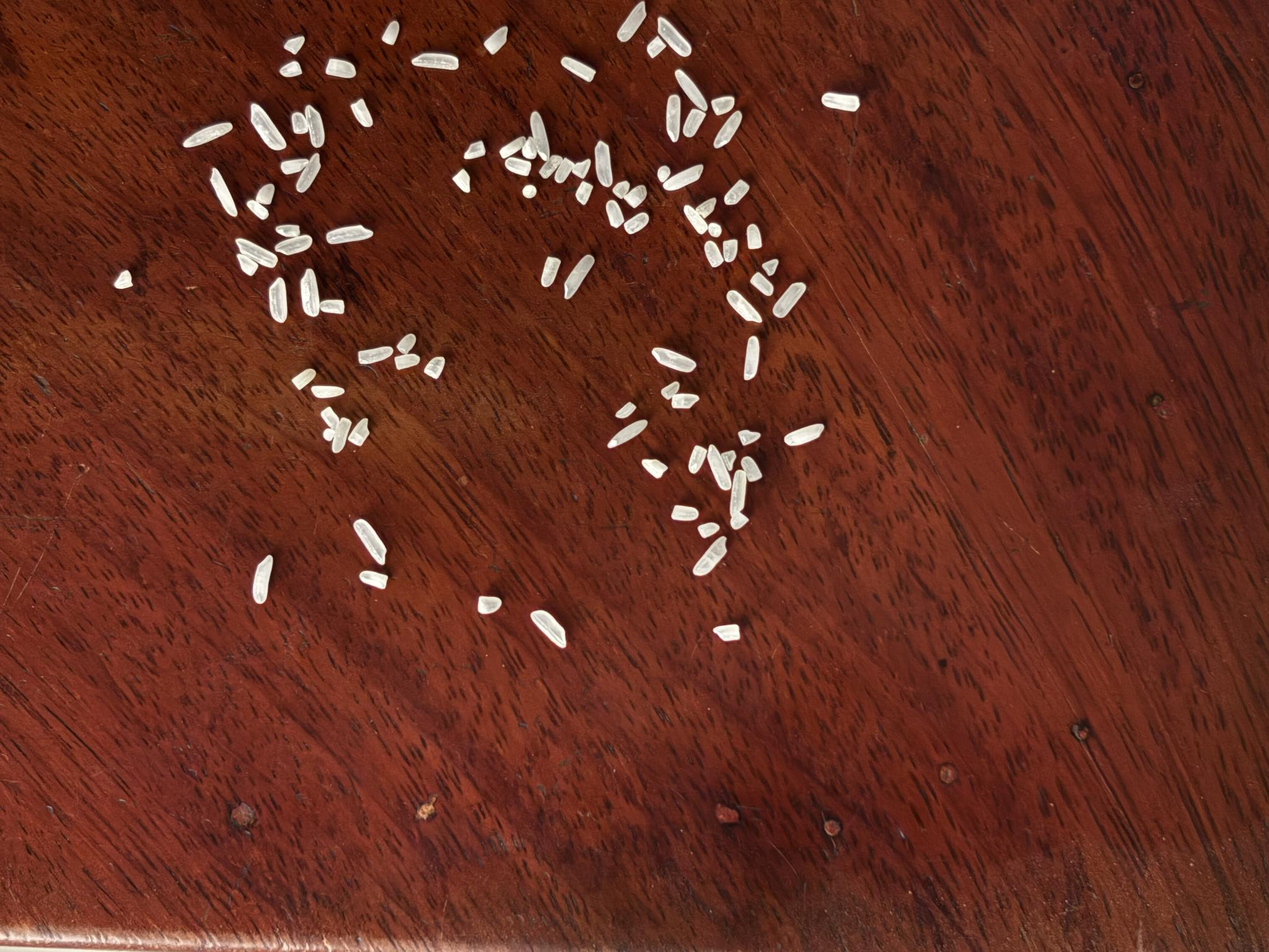Rice-th-y-nh: (692, 533, 730, 580), (352, 517, 388, 566), (673, 67, 711, 113), (250, 103, 286, 151), (607, 413, 648, 454), (529, 608, 569, 650), (654, 15, 692, 58), (701, 444, 735, 492), (562, 253, 596, 300), (663, 159, 705, 197), (771, 278, 807, 321), (658, 94, 689, 143), (525, 111, 555, 160), (712, 108, 745, 152), (725, 289, 764, 326), (784, 417, 825, 452), (650, 345, 696, 376), (209, 168, 237, 217), (589, 140, 618, 187), (737, 335, 766, 381), (617, 0, 648, 43), (724, 469, 752, 515), (236, 239, 278, 268), (184, 123, 232, 147), (250, 555, 274, 603), (326, 223, 373, 246), (299, 268, 321, 316), (296, 153, 322, 192), (412, 50, 459, 71), (821, 90, 860, 115), (560, 56, 596, 83), (682, 203, 709, 235), (275, 234, 313, 256), (681, 107, 707, 139), (722, 178, 750, 207), (483, 25, 509, 55), (498, 134, 528, 160), (685, 444, 710, 475), (602, 198, 627, 229), (540, 255, 563, 288), (331, 417, 352, 453), (621, 183, 649, 210), (306, 106, 324, 148), (538, 152, 564, 180), (749, 270, 775, 298), (710, 91, 736, 119), (701, 240, 726, 269), (552, 156, 576, 185), (670, 501, 699, 525), (623, 211, 650, 236), (740, 455, 764, 483), (358, 569, 389, 590), (357, 346, 393, 364), (351, 99, 374, 127), (743, 223, 766, 251), (504, 155, 532, 178), (670, 391, 700, 412), (719, 236, 741, 264), (713, 622, 741, 644), (348, 418, 369, 447), (640, 457, 669, 478), (736, 426, 762, 449), (476, 594, 503, 616), (695, 195, 719, 219), (573, 180, 595, 206), (326, 59, 356, 78), (463, 139, 487, 161), (519, 135, 540, 160), (236, 253, 258, 276), (571, 158, 594, 180), (292, 369, 316, 390), (729, 509, 750, 533), (718, 448, 739, 472), (424, 356, 445, 379), (646, 35, 666, 59), (280, 158, 309, 174), (760, 256, 781, 278), (696, 521, 720, 540), (452, 169, 471, 193), (382, 20, 400, 45), (394, 353, 420, 370), (246, 200, 269, 219), (611, 178, 630, 201), (312, 386, 345, 399), (615, 401, 637, 420), (320, 298, 345, 314), (660, 381, 681, 400), (284, 36, 305, 55), (397, 333, 416, 354), (321, 407, 339, 429), (275, 223, 301, 238), (255, 184, 274, 204), (291, 112, 308, 134), (279, 61, 302, 77), (113, 271, 132, 288), (656, 164, 672, 184), (521, 183, 538, 199), (707, 221, 722, 238), (323, 428, 335, 441)
